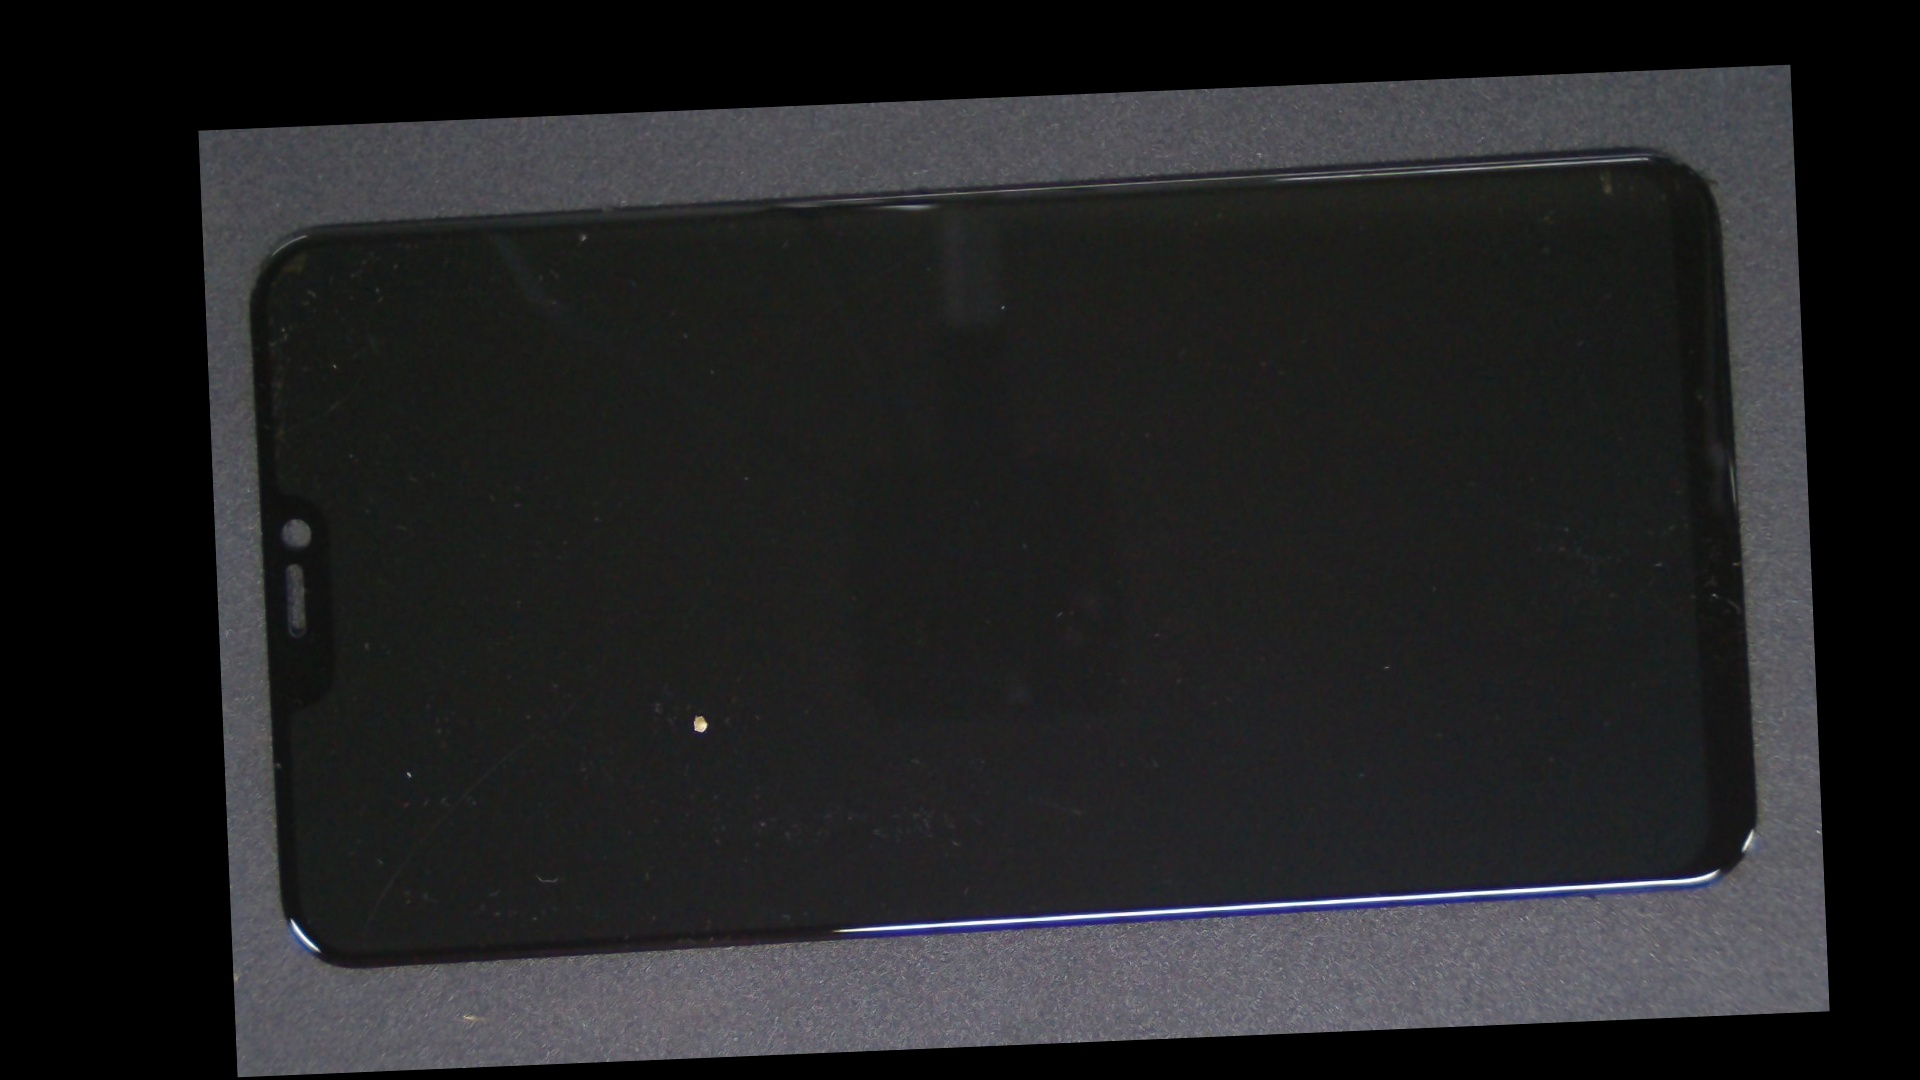oil: (447, 402, 944, 1025)
